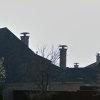Chimney: (56, 38, 72, 73)
